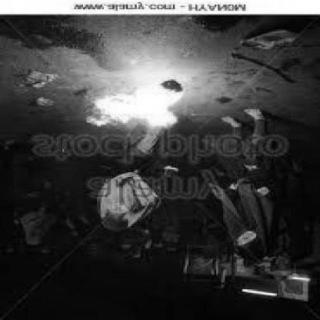Fire: (84, 74, 188, 138)
